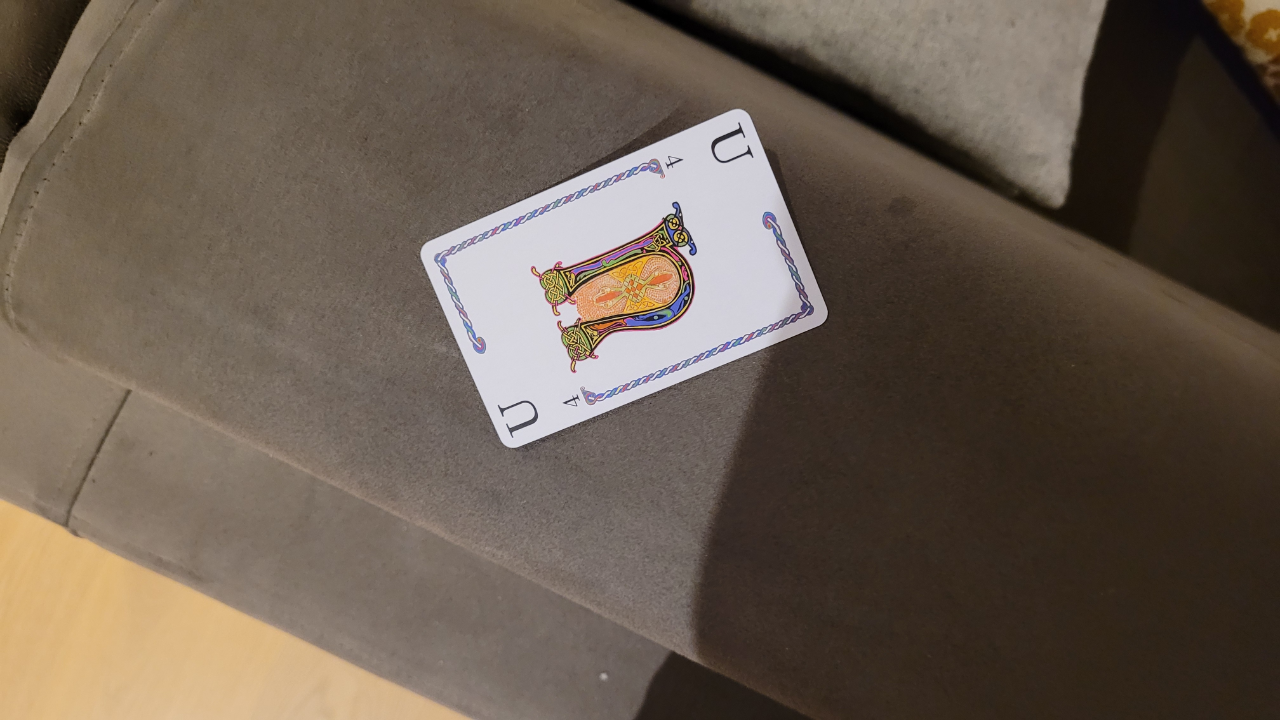quiddler_card: (415, 104, 842, 453)
